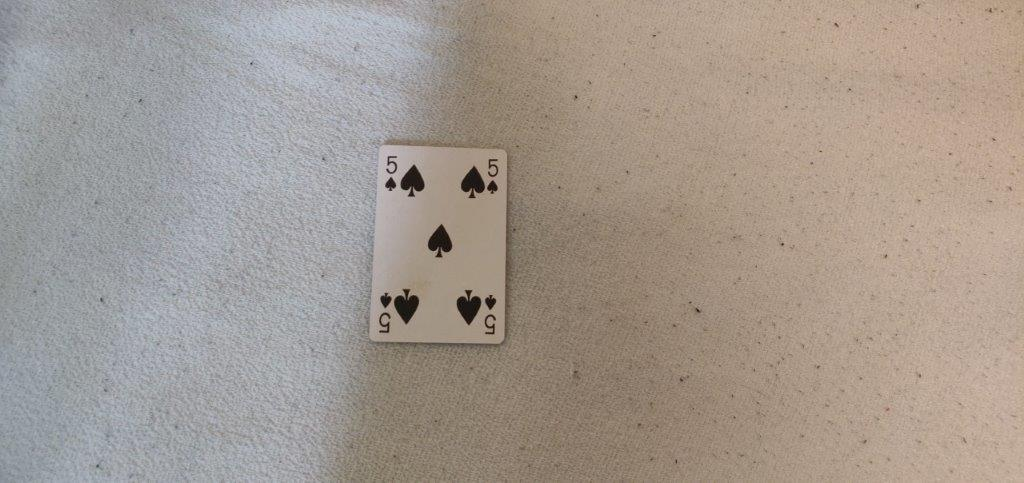5S: (380, 152, 400, 191), (484, 157, 502, 197)
